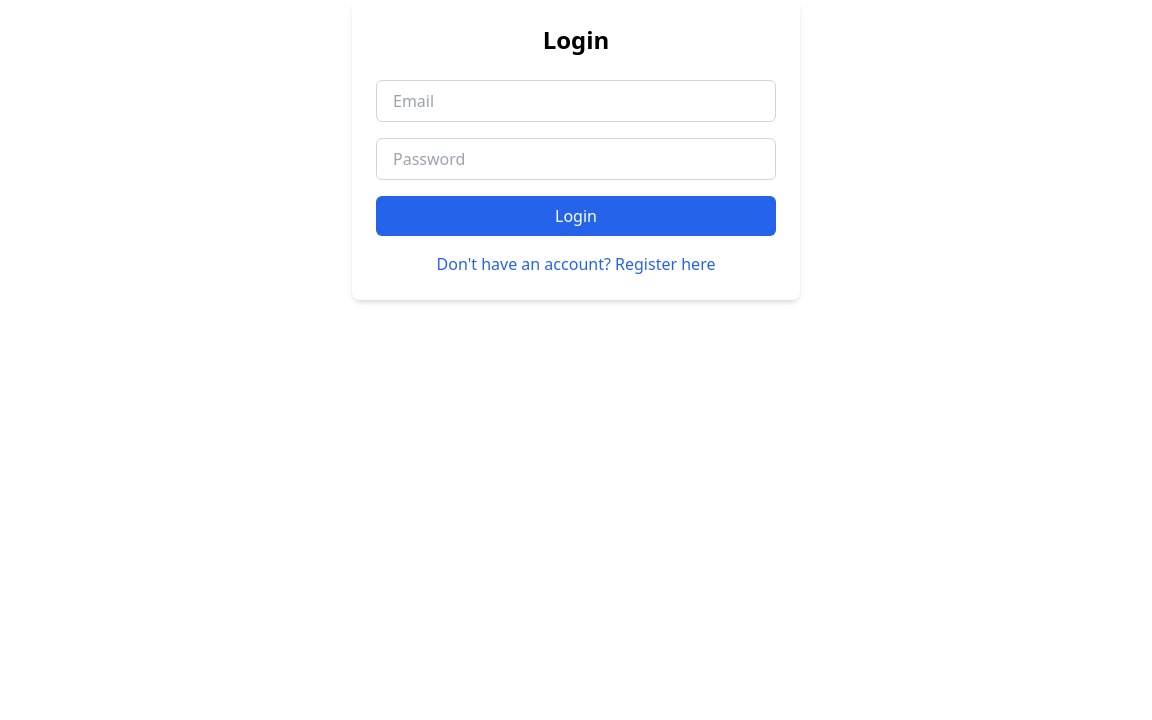
Test case: LoginForm › shows error message on invalid login
Note: Fill in the form
Type "test@example.com" into the field with placeholder "Email" at (576, 101), box [376,80,776,122]
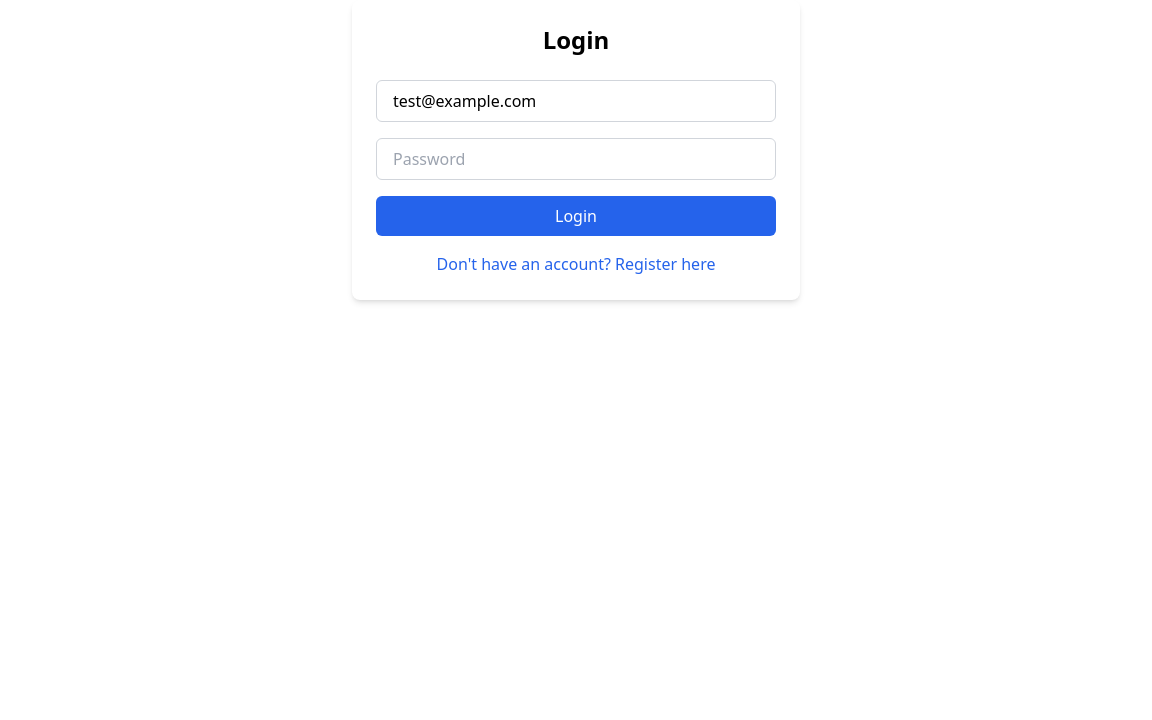
Type "wrongpassword" into the password field with placeholder "Password" at (576, 159), box [376,138,776,180]
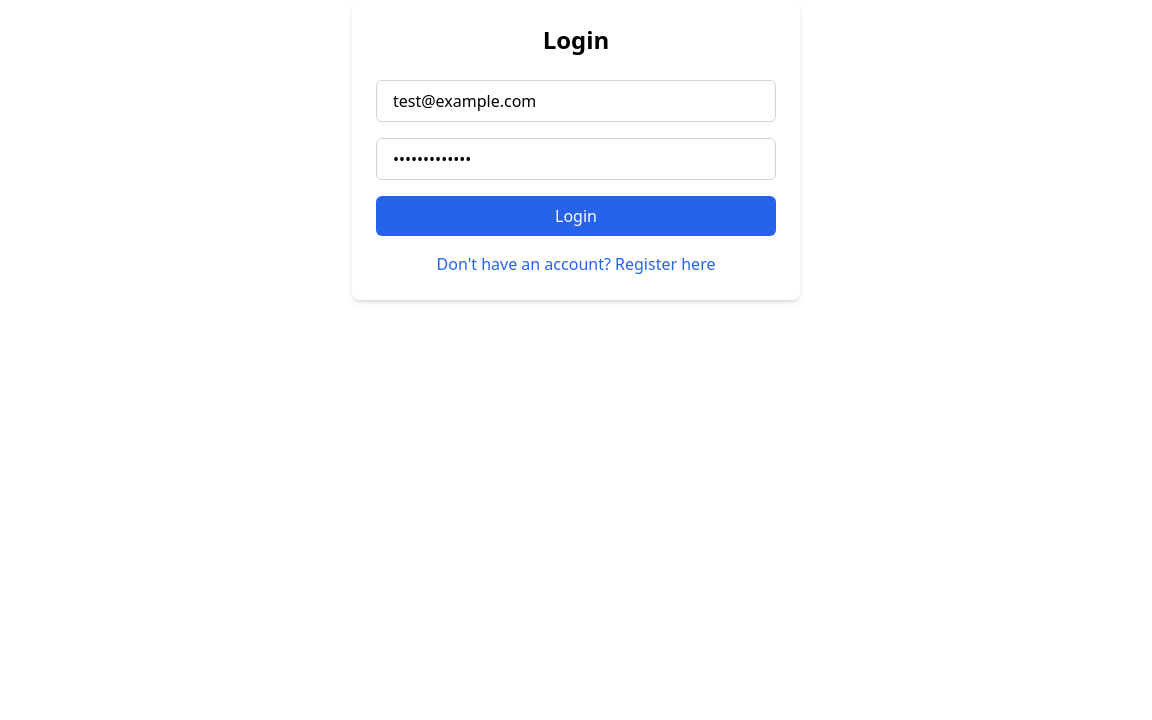
Note: Submit the form
Click the button "Login" at (576, 216), box [376,196,776,236]
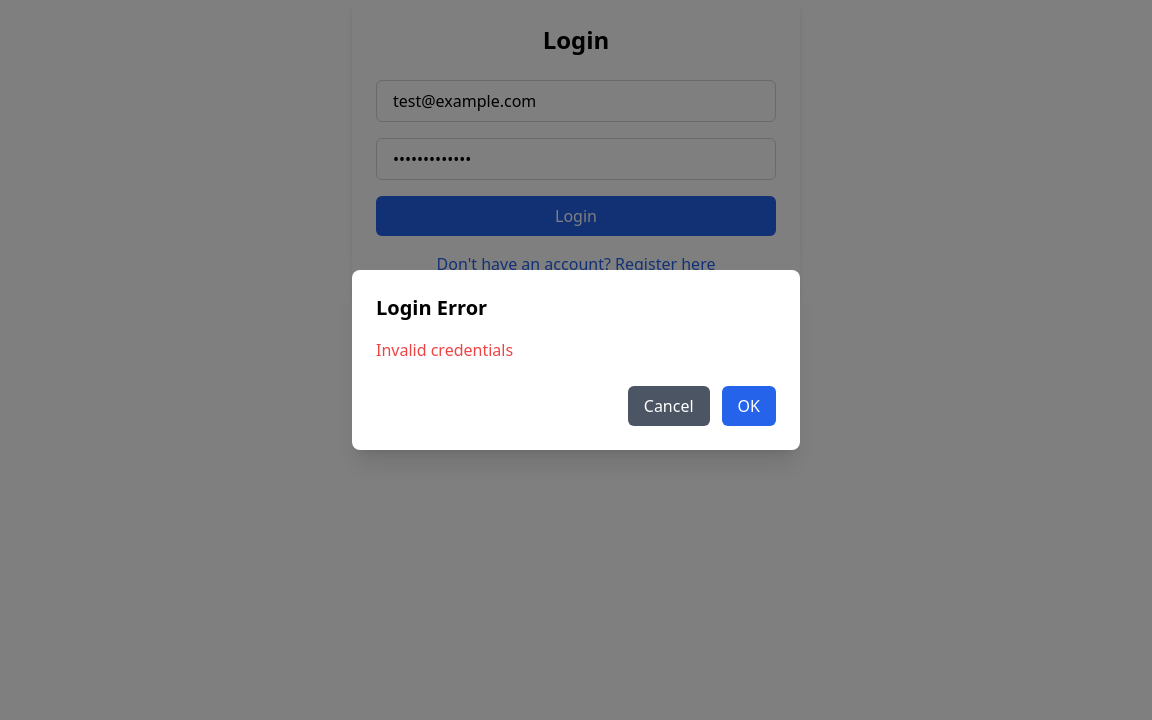
Expected: the text "Invalid credentials" is shown, [376,339,513,361]
